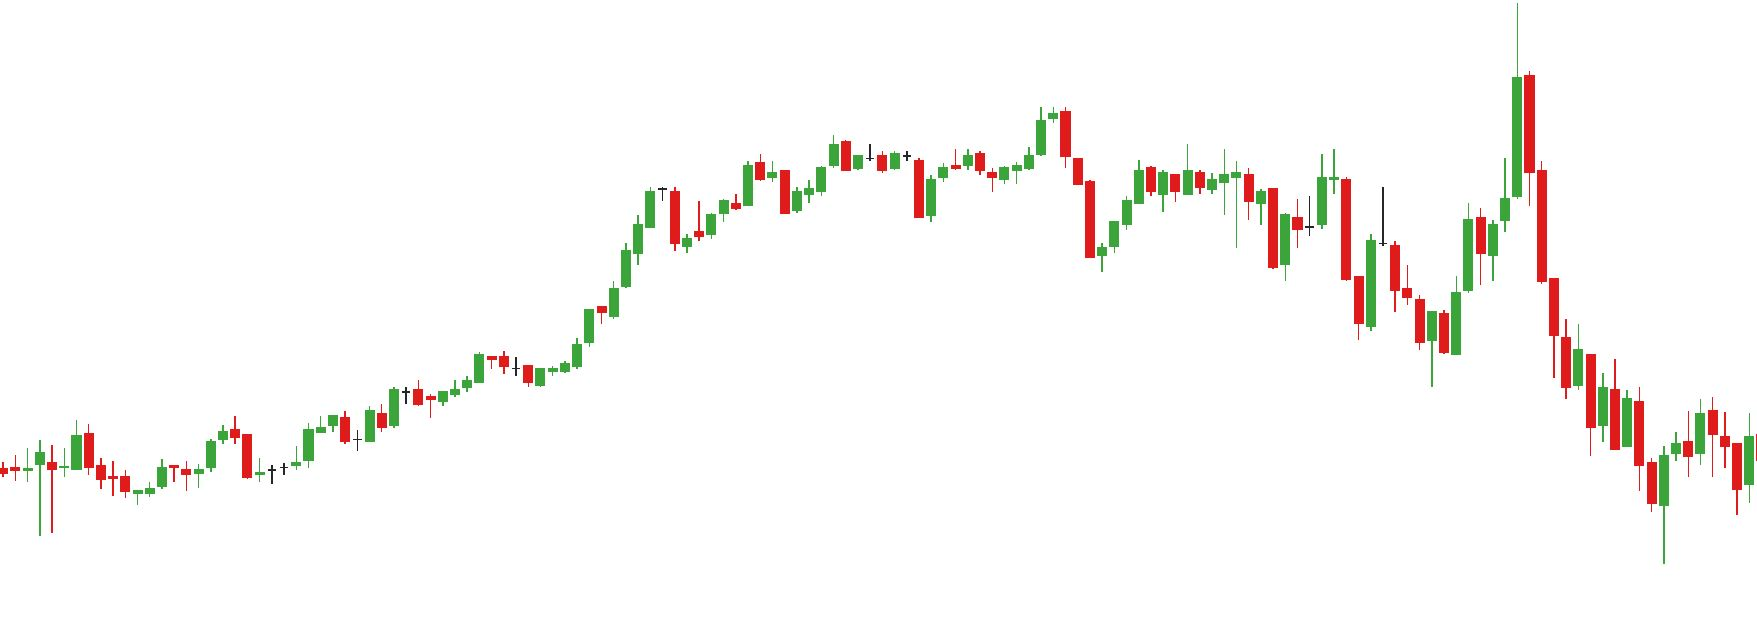buy: (778, 168, 938, 227)
sell: (1312, 9, 1538, 253)
